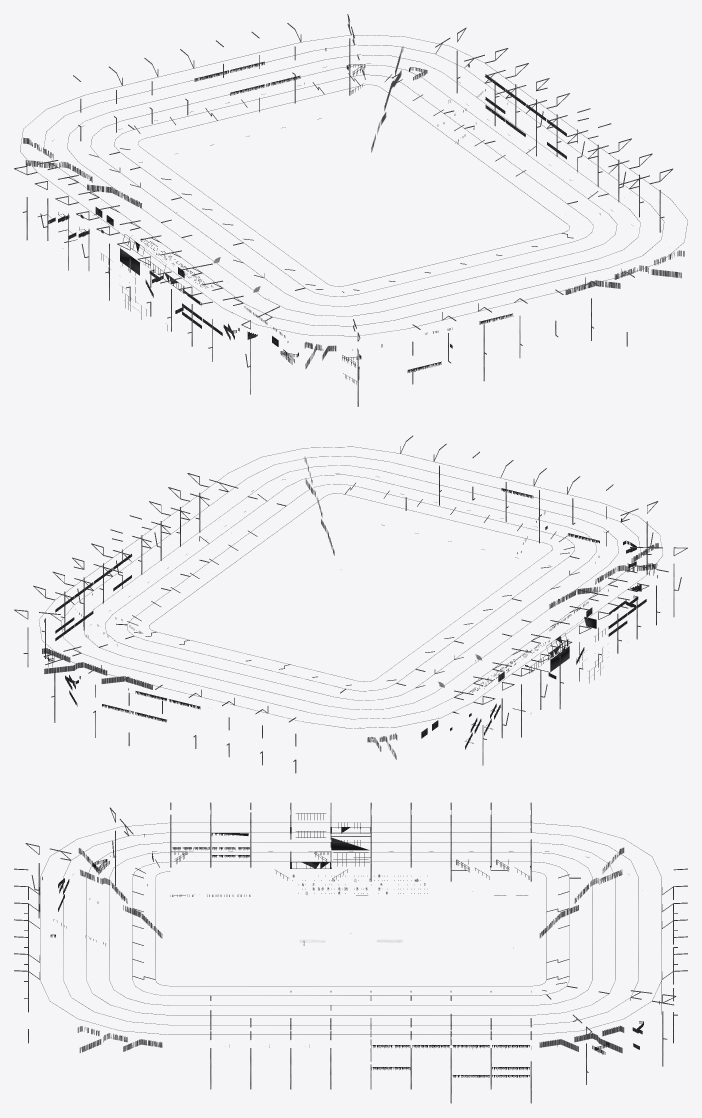
Rendered from modern_stadium_part07.glb.
3 renders of one model, top to bottom at view 1: azimuth 30°, elevation 25°; view 2: azimuth 150°, elevation 25°; view 3: azimuth 270°, elevation 25°, orthographic. The views are drawn at different scales.
Parts seen in each view (by area): view 1: Material2.070, Material2.035+Material2.040+Material2.043, Material2.007+Material2.014, Material2.135; view 2: Material2.070, Material2.035+Material2.040+Material2.043, Material2.007+Material2.014, Material2.135; view 3: Material2.070, Material2.035+Material2.040+Material2.043, Material2.007+Material2.014, Material2.135.
Boxes of the visible parts, x1=… form: Material2.070: x1=20, y1=34, x2=687, y2=336; Material2.035+Material2.040+Material2.043: x1=14, y1=14, x2=672, y2=406; Material2.007+Material2.014: x1=38, y1=48, x2=566, y2=384; Material2.135: x1=23, y1=46, x2=684, y2=368; Material2.070: x1=39, y1=446, x2=662, y2=728; Material2.035+Material2.040+Material2.043: x1=14, y1=435, x2=687, y2=773; Material2.007+Material2.014: x1=44, y1=488, x2=657, y2=749; Material2.135: x1=42, y1=457, x2=658, y2=759; Material2.070: x1=40, y1=822, x2=661, y2=1034; Material2.035+Material2.040+Material2.043: x1=14, y1=802, x2=687, y2=1103; Material2.007+Material2.014: x1=42, y1=813, x2=661, y2=1077; Material2.135: x1=77, y1=847, x2=624, y2=1052.
Bounding box in the file's own units: 180 × 27.84 × 219.
9 materials, 3 textured.
